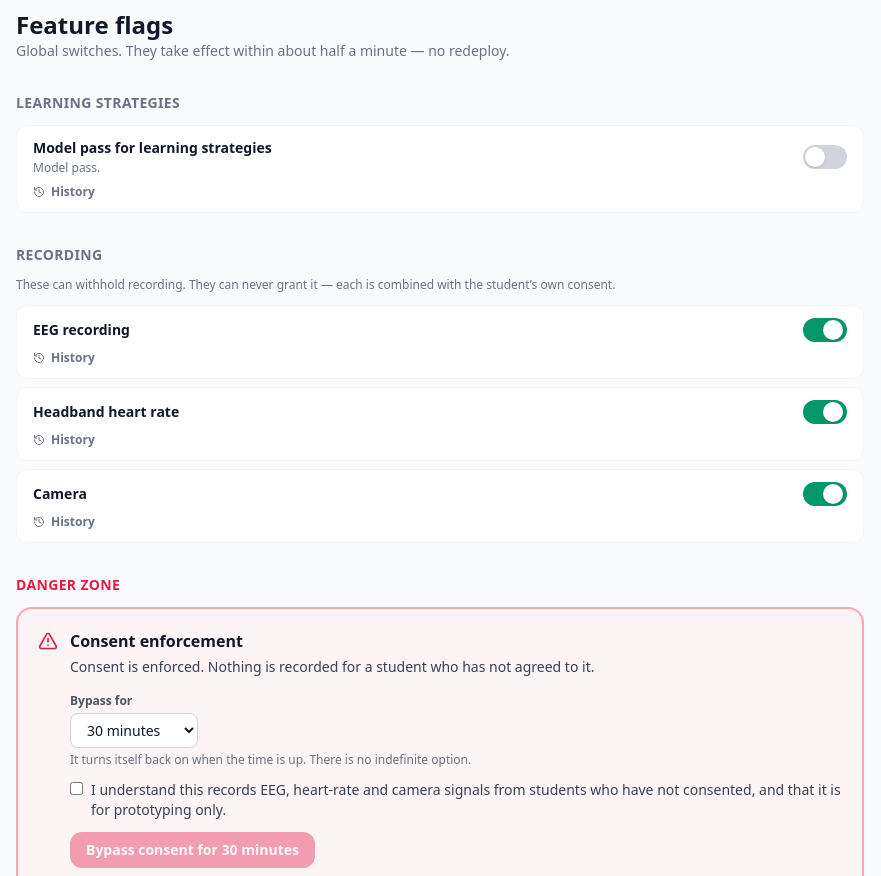
Test: will not arm the bypass until the consequence is acknowledged
This screenshot has width=881, height=876.
Expected: the heading "Consent enforcement" is shown, [70,630,243,652]
Expected: the button "Bypass consent for 30 minutes" is disabled, [70,832,315,868]
Click the checkbox: click(76, 788) [70,782,83,795]
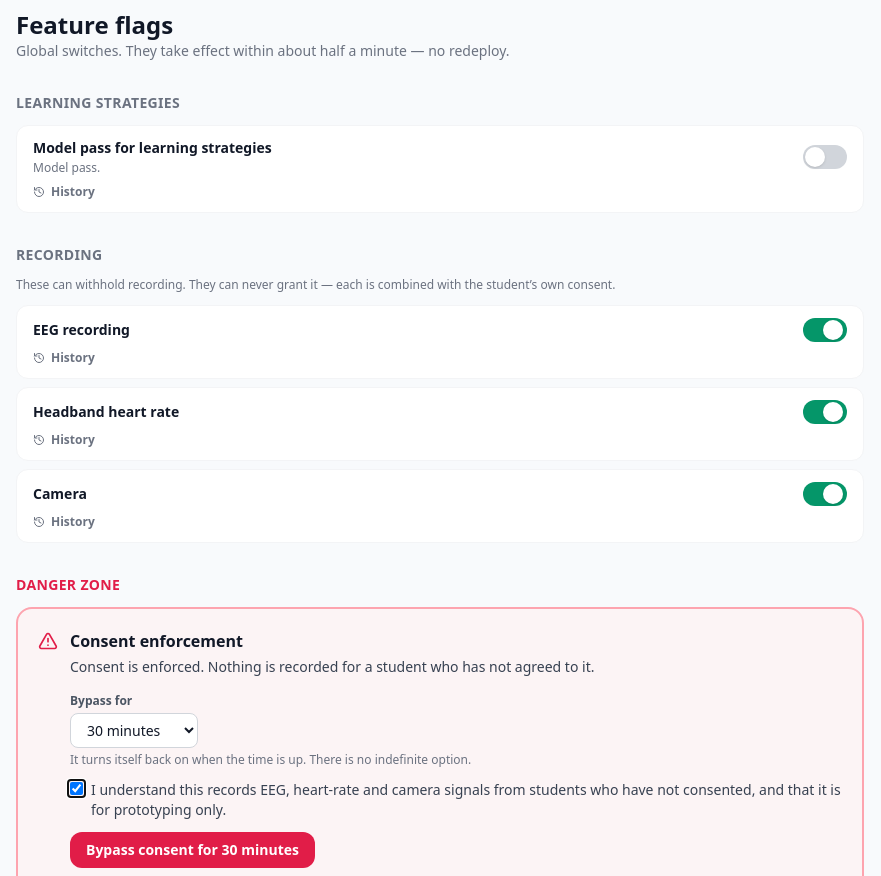
Result: the button "Bypass consent for 30 minutes" is enabled at [70,832,315,868]
